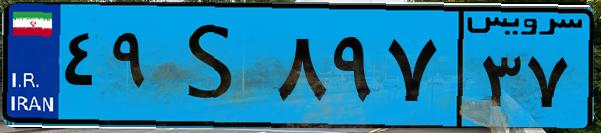3: (475, 38, 525, 113)
4: (57, 26, 110, 100)
7: (385, 28, 445, 110), (525, 38, 570, 115)
8: (270, 28, 330, 110)
9: (330, 28, 385, 110), (110, 28, 158, 98)
S: (158, 12, 270, 120)
